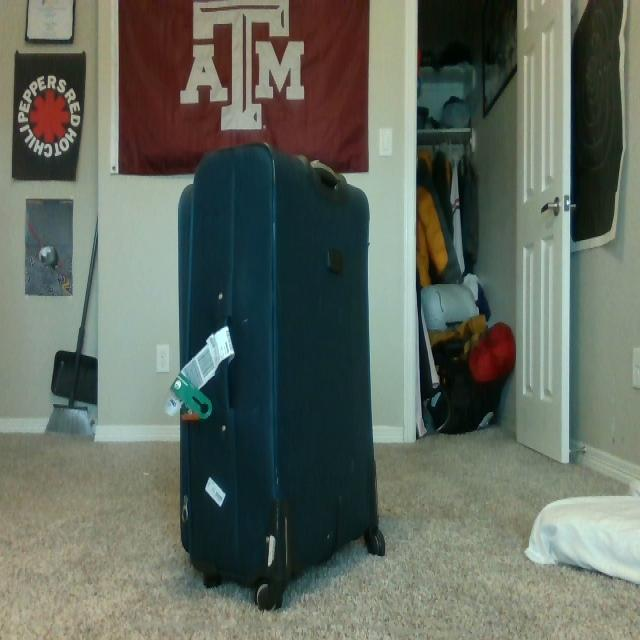suitcase: (175, 140, 388, 610)
